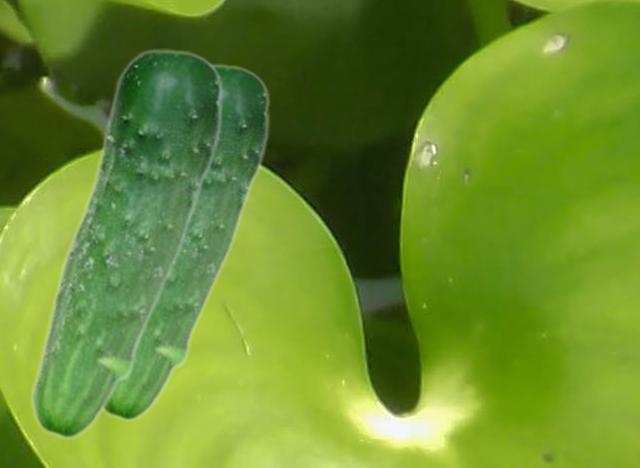cucumber: (28, 48, 223, 439), (104, 63, 270, 421)
